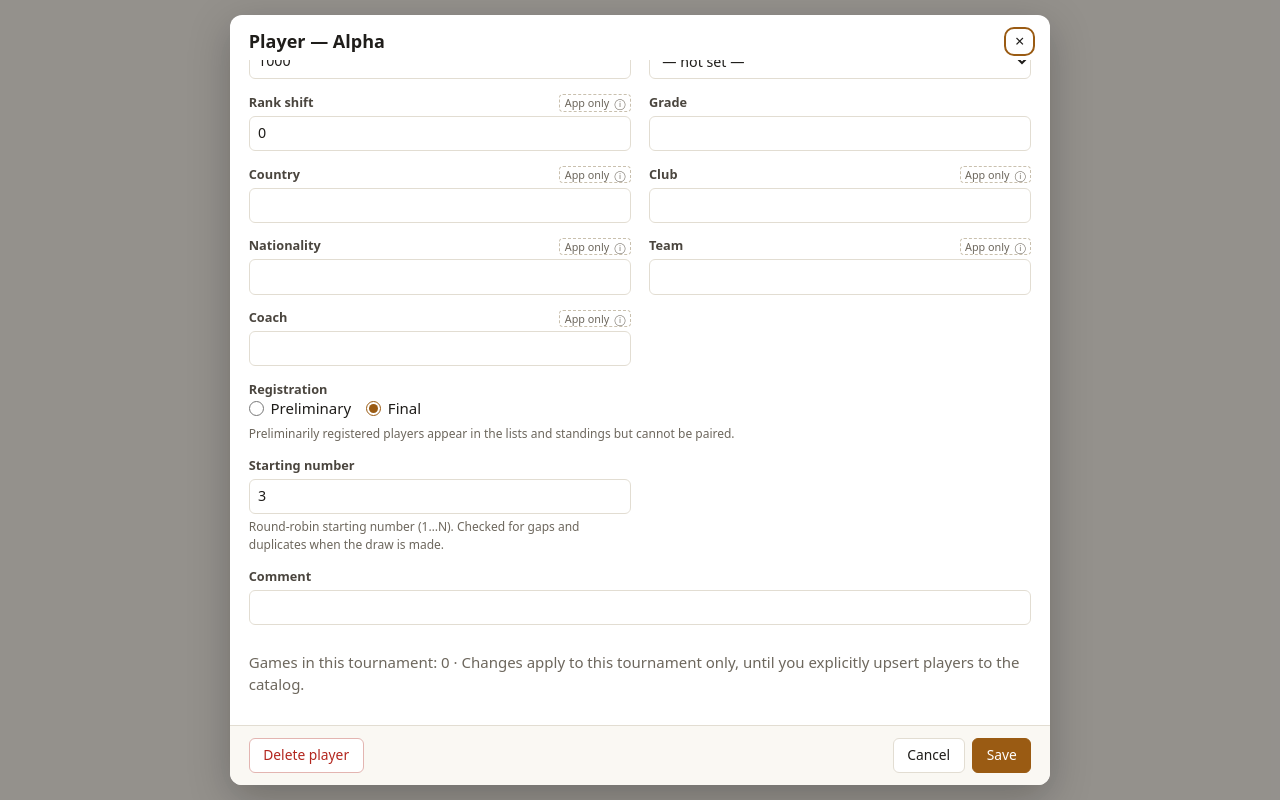
Scenario: player card starting number › rejects a typed 0 instead of clearing the number
The image size is (1280, 800).
(page scrolled)
Replace the text in the field labelled "Starting number" with "0" at (440, 496), box [249,478,631,514]
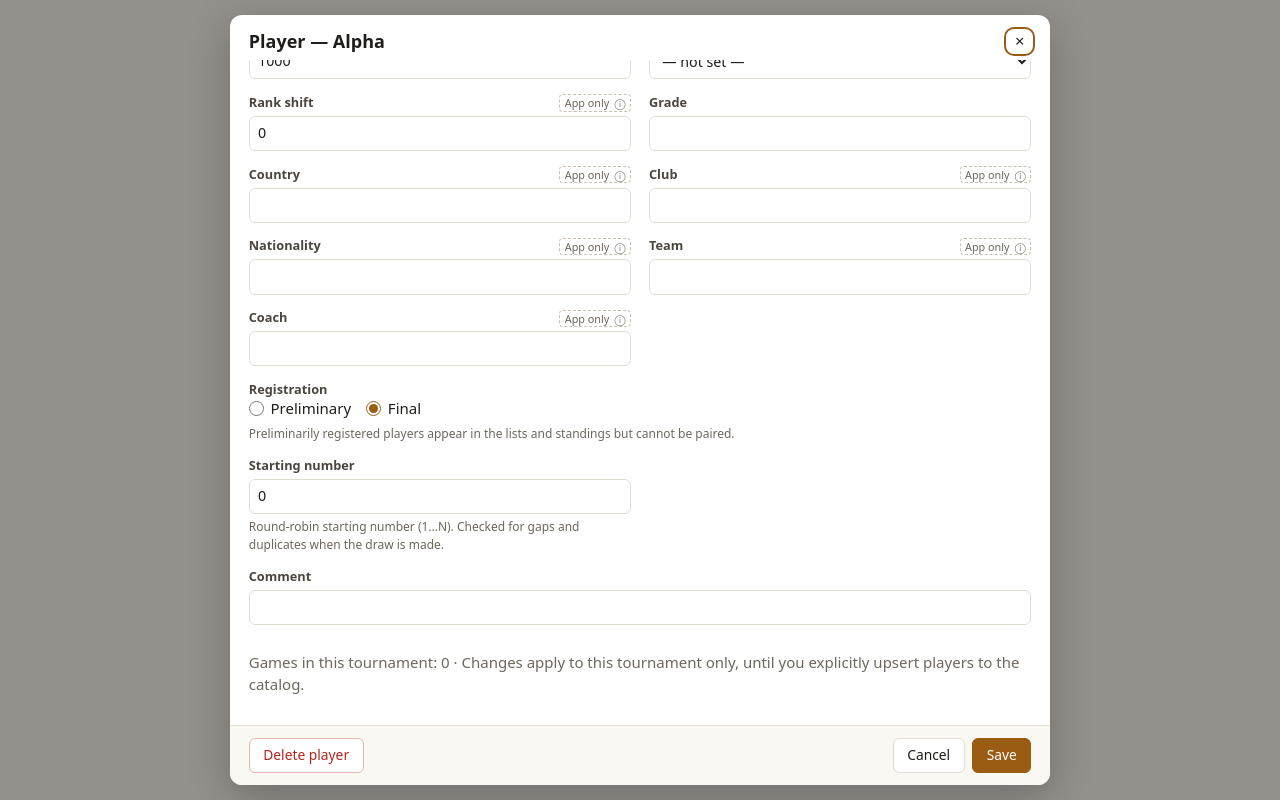
Click the button "Save" at (1002, 755), box [972,738,1031,773]
(page scrolled)
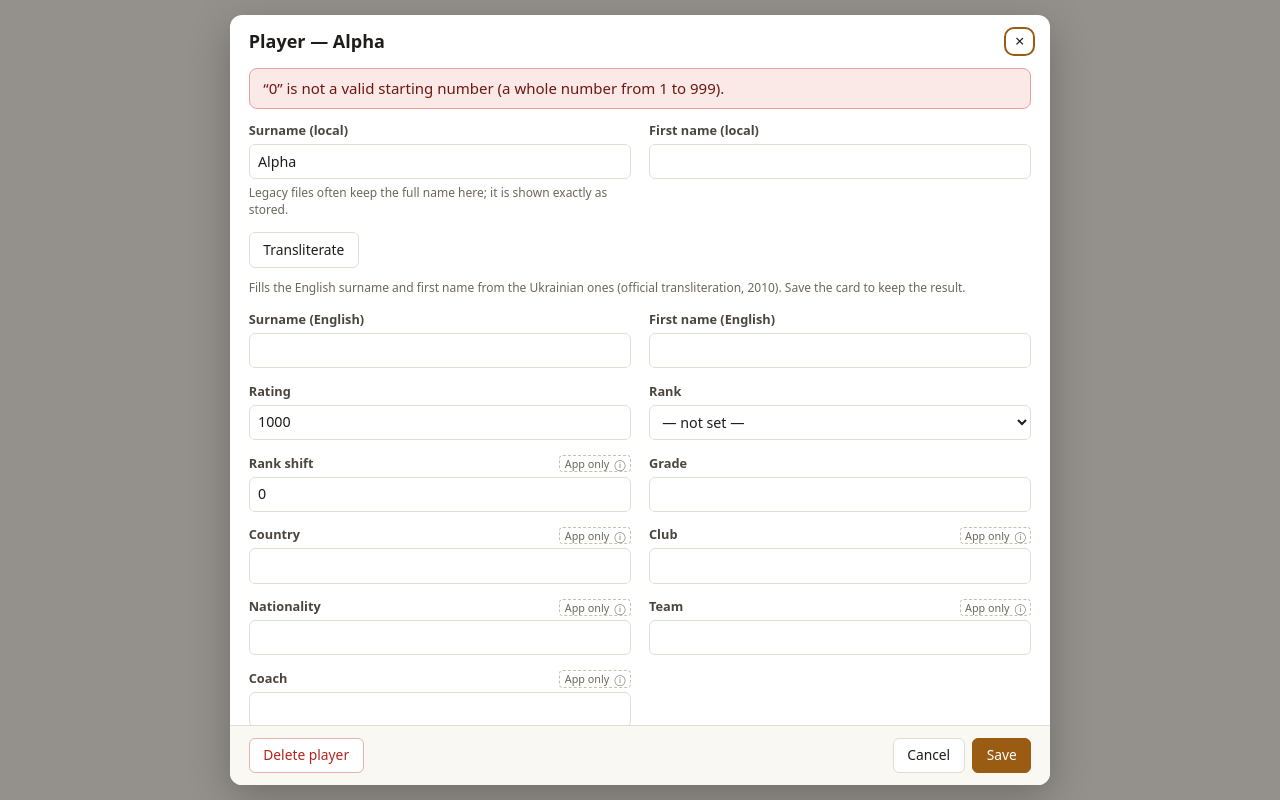
Expected: the text "“0” is not a valid starting number (a whole number from 1 to 999)." is shown, [249,68,1031,109]
